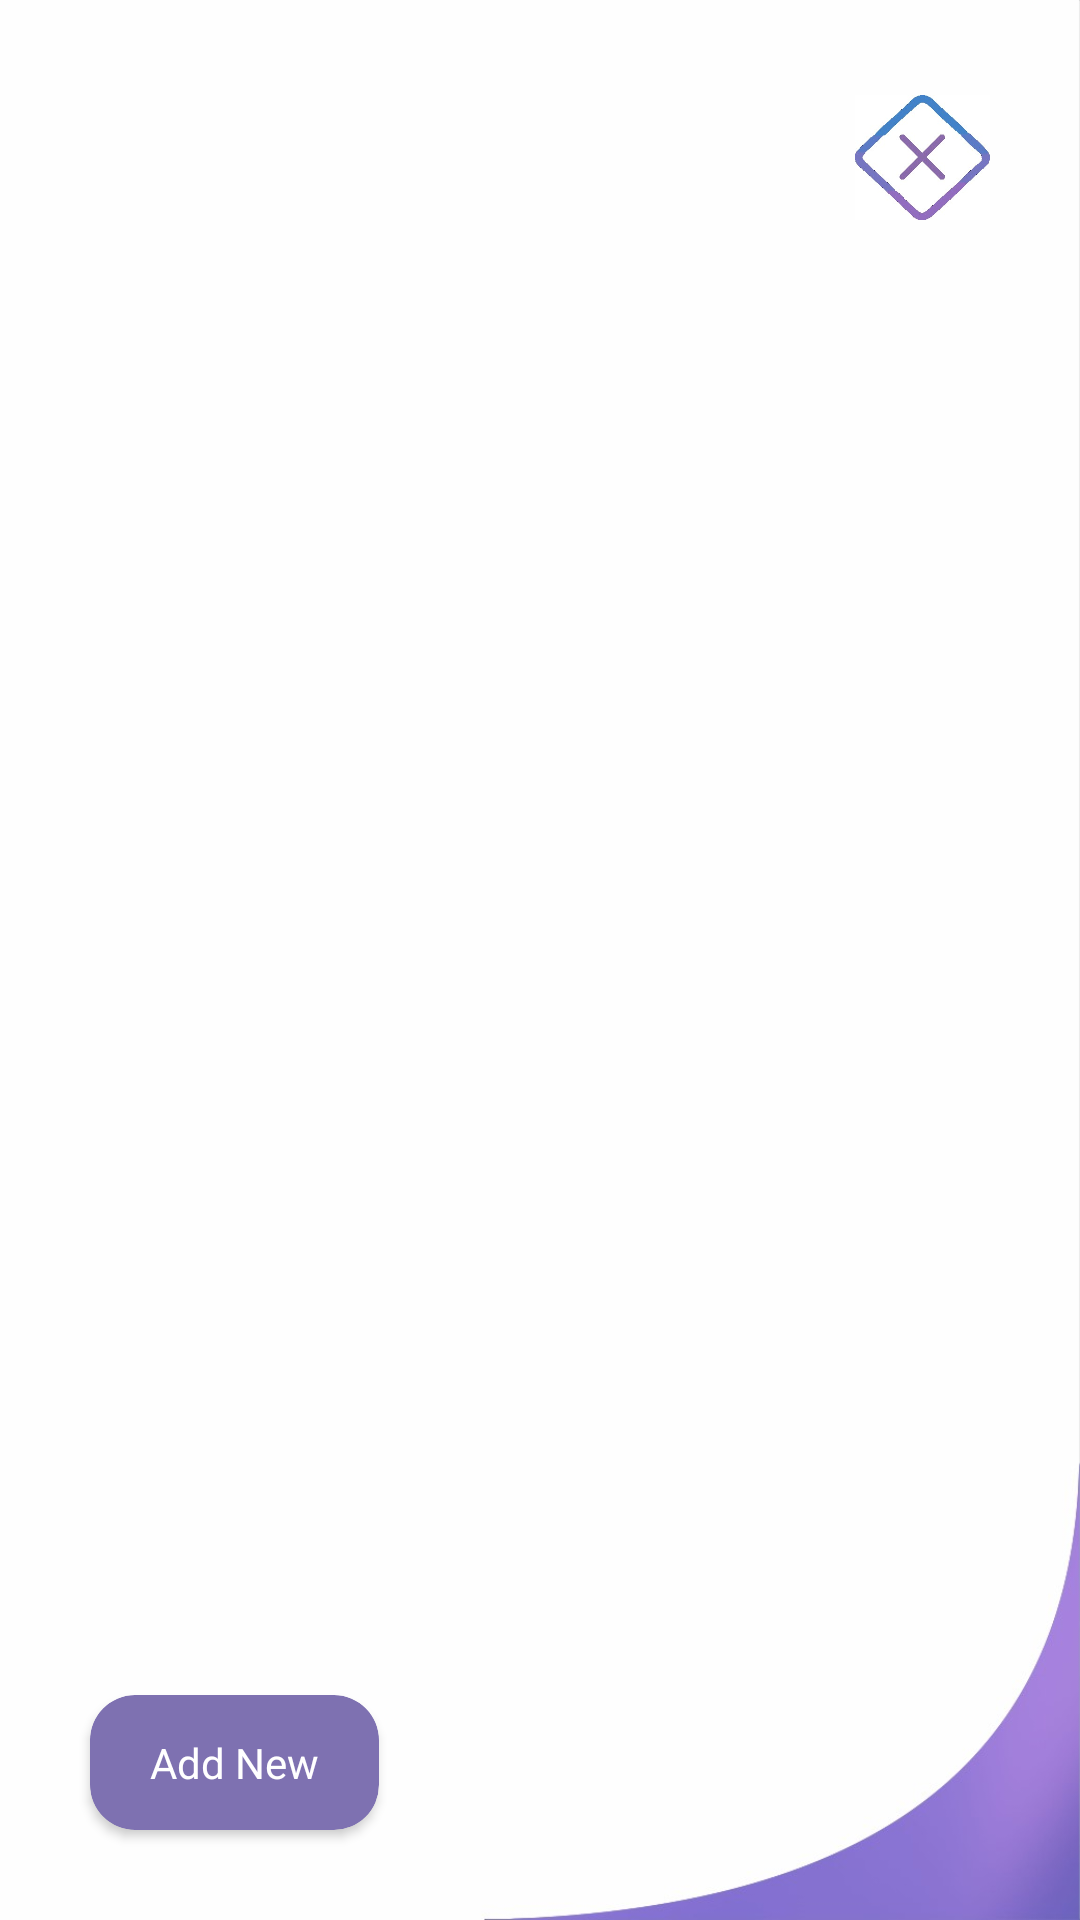

Icon click points for this 1080×1920 phone screenshot, format (x,y):
exit: (922,157)
